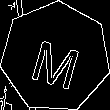M_N: (27, 27, 85, 88)
